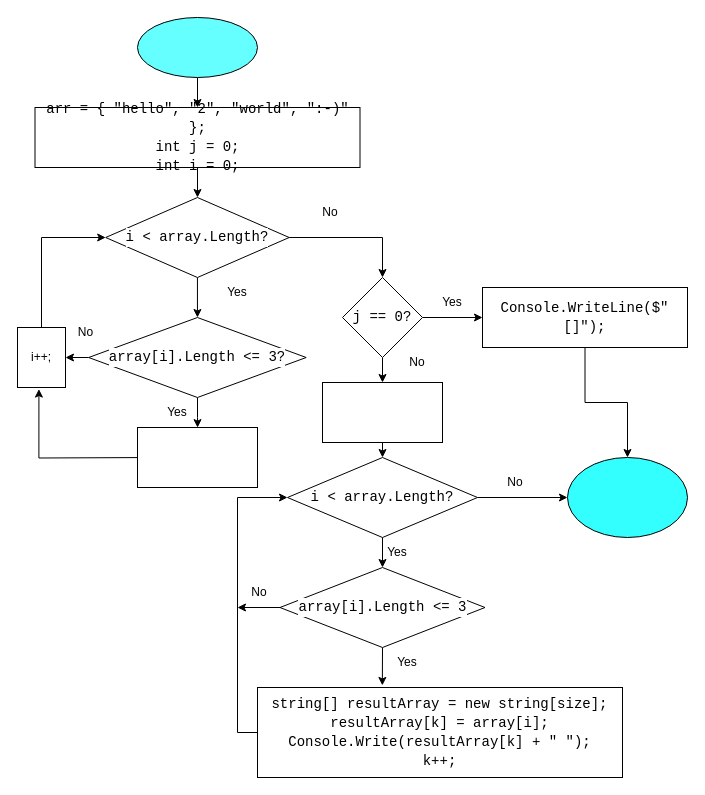
Some shapes in this 705 by 795 pixel diagram are drawn without their labels. Each missing label, with the centre of its shape:
Finish: [627,497]
int i = 0; int k = 0;: [382,412]
j++;: [197,457]
Start: [197,47]
